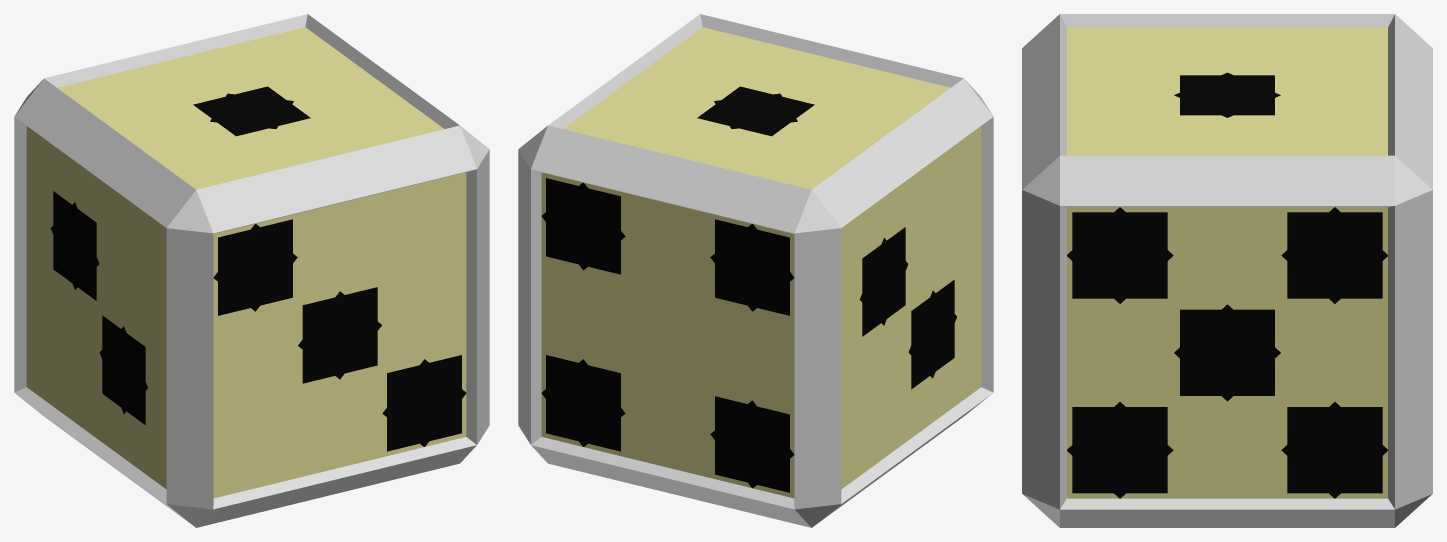
3 views of the same model, side by side, from view 1: azimuth 30°, elevation 25°; view 2: azimuth 150°, elevation 25°; view 3: azimuth 270°, elevation 25° (orthographic). The views are drawn at different scales.
Visible parts, largest first — view 1: Plane.001; view 2: Plane.001; view 3: Plane.001.
Boxes of the visible parts, x1=… form: Plane.001: x1=14, y1=14, x2=489, y2=527; Plane.001: x1=518, y1=14, x2=993, y2=527; Plane.001: x1=1022, y1=14, x2=1432, y2=527.
Bounding box in the file's own units: 0.9017 × 0.9017 × 0.9017.
